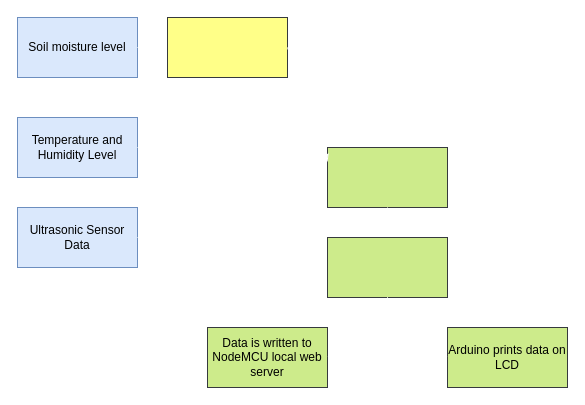
Image size: 585x405. Some labels were removed from this diagram. The shapes that lost their labels are listed below. From the top down, each one's centre as x and y in pixels, then its label:
the point at 227,47: Analogue to Digital Conversion
the point at 387,177: Data points reported into Arduino UNO
the point at 387,267: Data is sent to serial monitor at rate 9600 Baud
